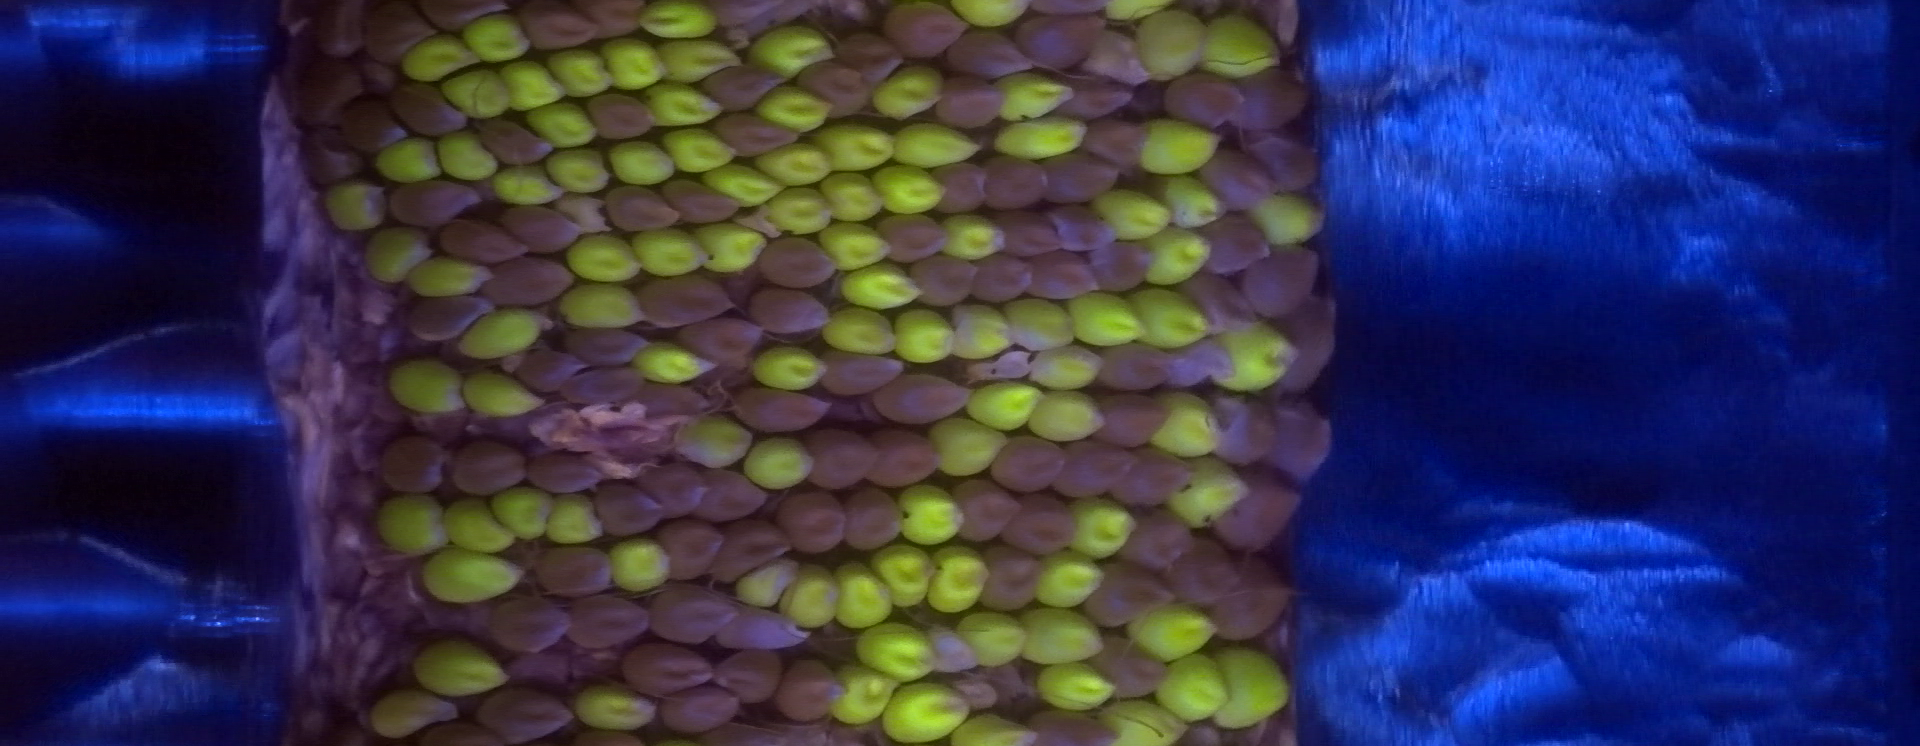fluorescent: (1212, 648, 1296, 726), (408, 636, 509, 693), (1198, 12, 1277, 85), (1129, 10, 1209, 80), (369, 489, 444, 561), (1141, 116, 1224, 181), (420, 546, 527, 597), (882, 680, 969, 739), (1016, 610, 1108, 665), (857, 624, 939, 684), (1168, 464, 1247, 526), (924, 549, 993, 619), (1130, 284, 1206, 347), (384, 358, 468, 412), (868, 546, 944, 605), (1093, 186, 1171, 244), (460, 310, 547, 360), (462, 367, 549, 418), (1221, 323, 1284, 391), (1100, 702, 1196, 746), (898, 122, 982, 173), (1007, 300, 1082, 355), (988, 72, 1069, 124), (1033, 661, 1118, 710), (1160, 663, 1232, 719), (313, 184, 394, 234), (1070, 290, 1144, 345), (958, 612, 1029, 669), (996, 115, 1082, 160), (869, 70, 944, 122), (895, 486, 962, 544), (939, 212, 1013, 265), (542, 49, 613, 103), (1155, 394, 1217, 456), (940, 712, 1052, 746), (444, 502, 519, 552), (835, 567, 896, 628), (950, 301, 1014, 360), (836, 668, 902, 724), (1067, 497, 1133, 554), (655, 37, 737, 82), (649, 80, 725, 127), (662, 127, 738, 175), (1160, 171, 1220, 232), (1135, 609, 1210, 657), (1032, 551, 1098, 605), (744, 441, 816, 490), (562, 243, 645, 284), (767, 192, 834, 244), (900, 307, 960, 365), (784, 571, 839, 633), (578, 682, 654, 728), (600, 37, 659, 94), (883, 163, 943, 219), (751, 29, 827, 73), (820, 174, 887, 224), (1031, 349, 1106, 393), (633, 1, 729, 36), (705, 227, 774, 274), (733, 560, 798, 610), (400, 36, 471, 81), (820, 307, 898, 349), (757, 89, 831, 132), (813, 126, 887, 169), (365, 232, 432, 278), (636, 229, 705, 273), (849, 265, 917, 309), (1040, 393, 1104, 440), (447, 72, 513, 118), (639, 341, 709, 383), (704, 167, 780, 206), (763, 146, 831, 189), (365, 695, 459, 725), (1255, 194, 1319, 239), (1145, 232, 1205, 279), (549, 147, 613, 191), (927, 421, 991, 465), (822, 222, 889, 263), (371, 148, 447, 185), (501, 62, 563, 107), (465, 17, 531, 58), (971, 388, 1037, 429), (492, 492, 547, 540), (613, 141, 675, 184), (564, 288, 643, 321), (546, 499, 602, 544), (686, 421, 751, 461), (758, 349, 820, 390), (528, 108, 595, 145), (612, 541, 665, 587), (418, 263, 489, 296), (947, 1, 1033, 27), (436, 134, 491, 174), (490, 171, 561, 202), (1101, 1, 1172, 21)
nonfluorescent: (1266, 391, 1331, 488), (1215, 557, 1288, 639), (1095, 631, 1169, 707), (945, 473, 1022, 546), (1211, 394, 1282, 474), (623, 639, 720, 697), (1251, 243, 1324, 318), (864, 423, 944, 491), (707, 519, 791, 583), (482, 686, 576, 744), (1239, 126, 1321, 190), (1098, 560, 1169, 633), (296, 127, 380, 189), (651, 584, 740, 642), (295, 62, 375, 126), (1184, 271, 1264, 334), (1169, 537, 1240, 608), (1227, 472, 1296, 545), (1278, 301, 1341, 381), (1040, 151, 1124, 209), (1199, 213, 1273, 279), (722, 603, 813, 657), (944, 34, 1036, 87), (648, 521, 724, 583), (1082, 32, 1156, 96), (1004, 495, 1078, 559), (796, 55, 878, 111), (891, 2, 971, 60), (1082, 232, 1157, 293), (1093, 338, 1174, 394), (780, 657, 849, 723), (451, 439, 530, 494), (380, 437, 448, 501), (1032, 247, 1103, 307), (803, 429, 876, 488), (696, 461, 768, 519), (388, 85, 473, 135), (571, 597, 655, 647), (700, 60, 782, 111), (759, 236, 841, 288), (531, 545, 617, 594), (362, 2, 438, 58), (640, 277, 735, 321), (486, 597, 571, 646), (1060, 439, 1124, 503), (842, 488, 906, 552), (936, 73, 1010, 129), (709, 111, 800, 157), (737, 383, 828, 429), (776, 494, 849, 550), (479, 262, 584, 300), (662, 682, 742, 733), (984, 541, 1040, 614), (992, 439, 1059, 497), (1025, 706, 1123, 746), (564, 323, 651, 369), (1127, 510, 1191, 570), (874, 377, 973, 416), (673, 323, 764, 366), (443, 218, 527, 265), (529, 445, 606, 495), (599, 185, 683, 230), (1168, 73, 1239, 127), (519, 345, 590, 399), (1019, 18, 1100, 65), (833, 29, 902, 83), (1101, 394, 1164, 453), (988, 154, 1052, 213), (480, 120, 564, 164), (513, 6, 602, 48), (638, 463, 707, 517), (671, 180, 748, 228), (380, 180, 481, 216), (310, 1, 370, 61), (1087, 113, 1149, 171), (1207, 152, 1277, 203), (336, 96, 404, 147), (1232, 70, 1303, 119), (820, 350, 906, 391), (749, 285, 828, 330), (1065, 72, 1138, 120), (909, 255, 978, 304), (582, 94, 659, 138), (722, 650, 789, 702), (970, 255, 1040, 303), (402, 305, 498, 338), (927, 163, 992, 212), (598, 483, 659, 533), (874, 217, 948, 258), (1000, 214, 1067, 258), (416, 718, 519, 746), (560, 367, 647, 401), (1048, 202, 1106, 251), (642, 381, 700, 418), (421, 1, 508, 24), (598, 1, 651, 37)
